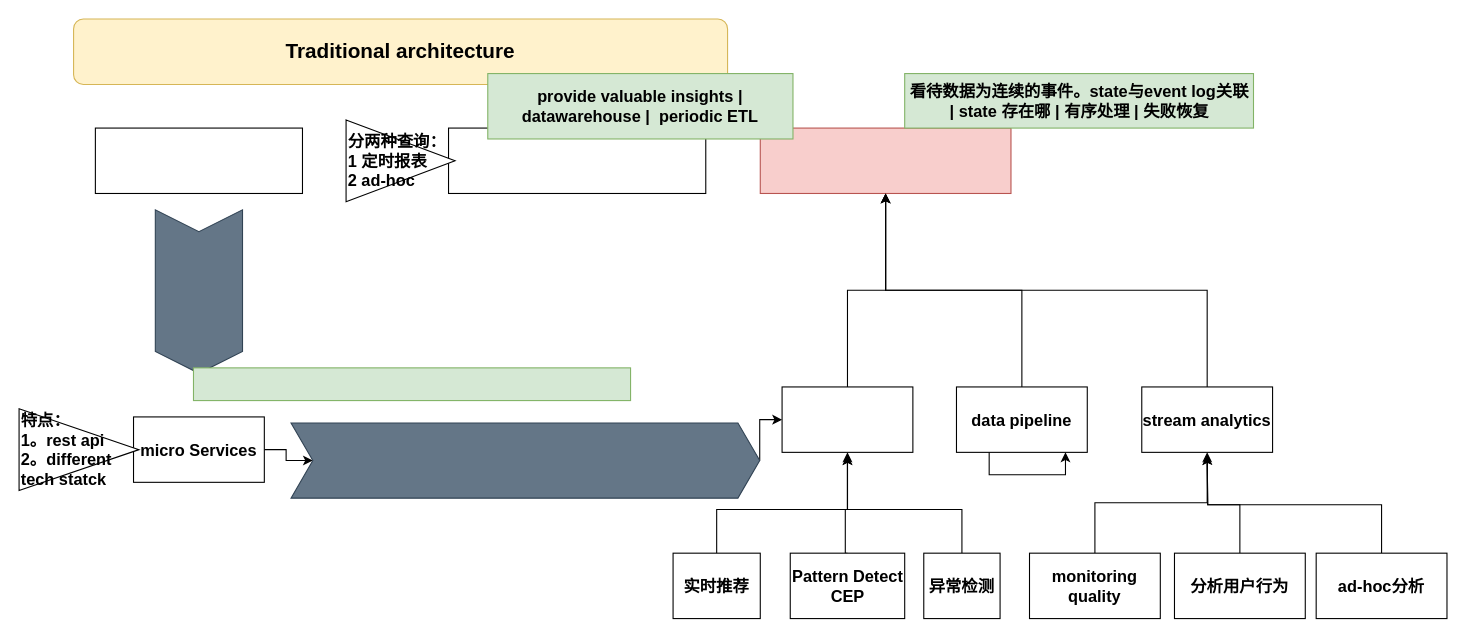
Image size: 1466x638. Some labels were removed from this diagram. Here are the shapes that lost their labels. From the top down, the centre of each, then its label:
At point 198,160: "transactional processing".
At point 576,160: "analytical processing".
At point 885,160: "stateful stream processing".
At point 198,291: "公共使用一套数据，改动影响大".
At point 411,384: "unix philosophy：doing a single thing and doing it well".
At point 847,419: "事件驱动应用".
At point 525,460: "升级通过日志事件替换rest calls，通过local state代替external datastore，性能更好 可扩展性更强，并且也异步调用".
